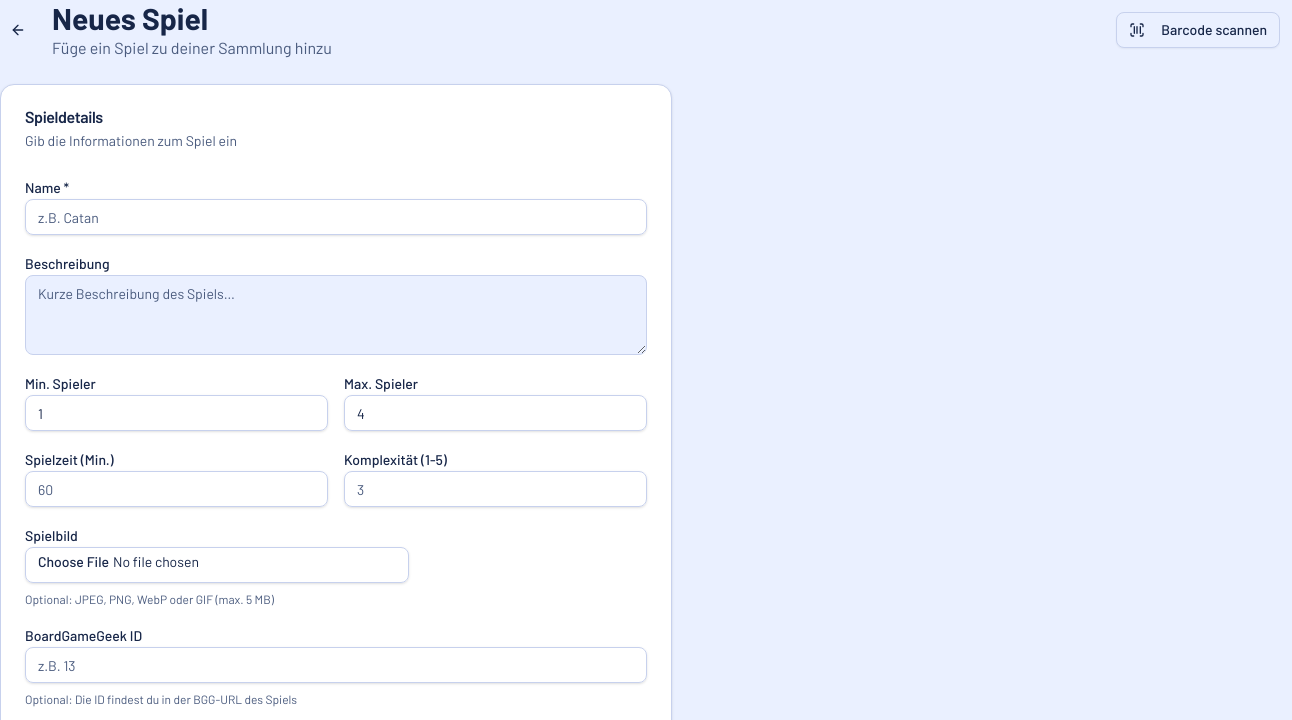
Test: NewGamePage › shows server error on failed submission
Step 1. Type "X" into the field with test id "game-name" → (336, 217), box top-left (25, 199), bottom-right (647, 235)
(page scrolled)
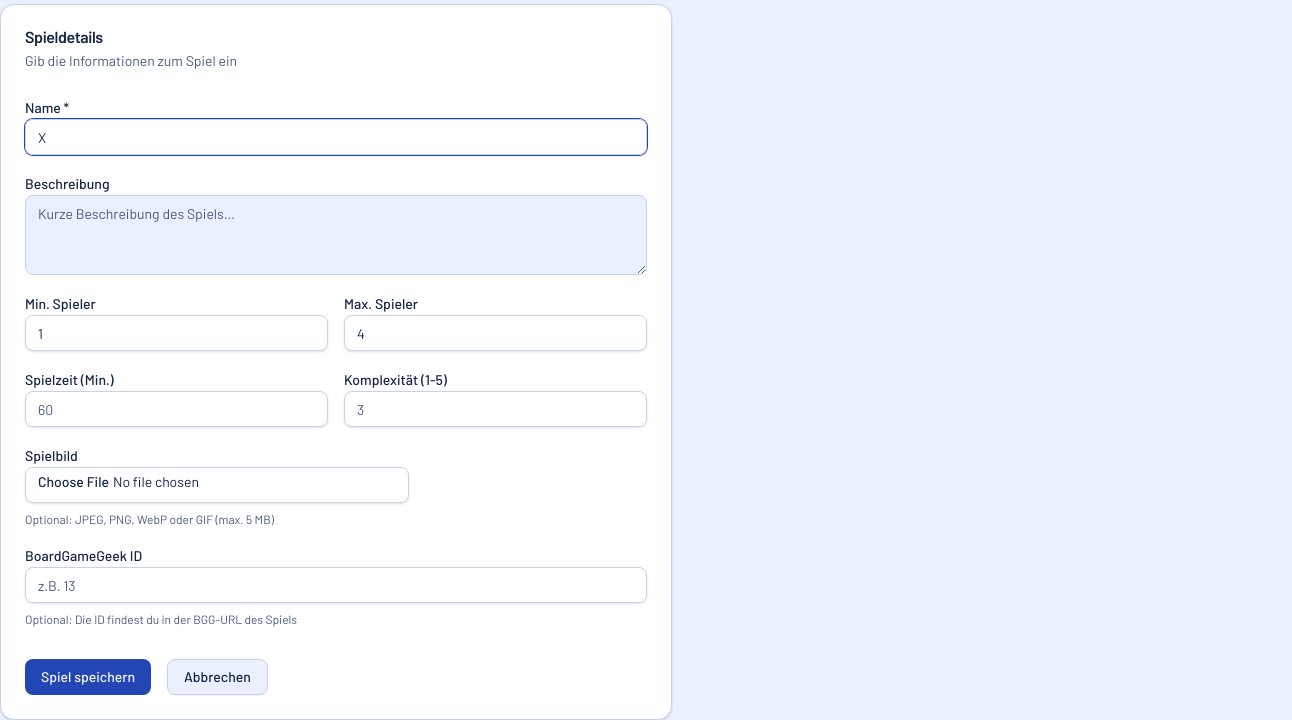
Step 2. Submit the form with test id "new-game-form", box top-left (25, 95), bottom-right (647, 695)
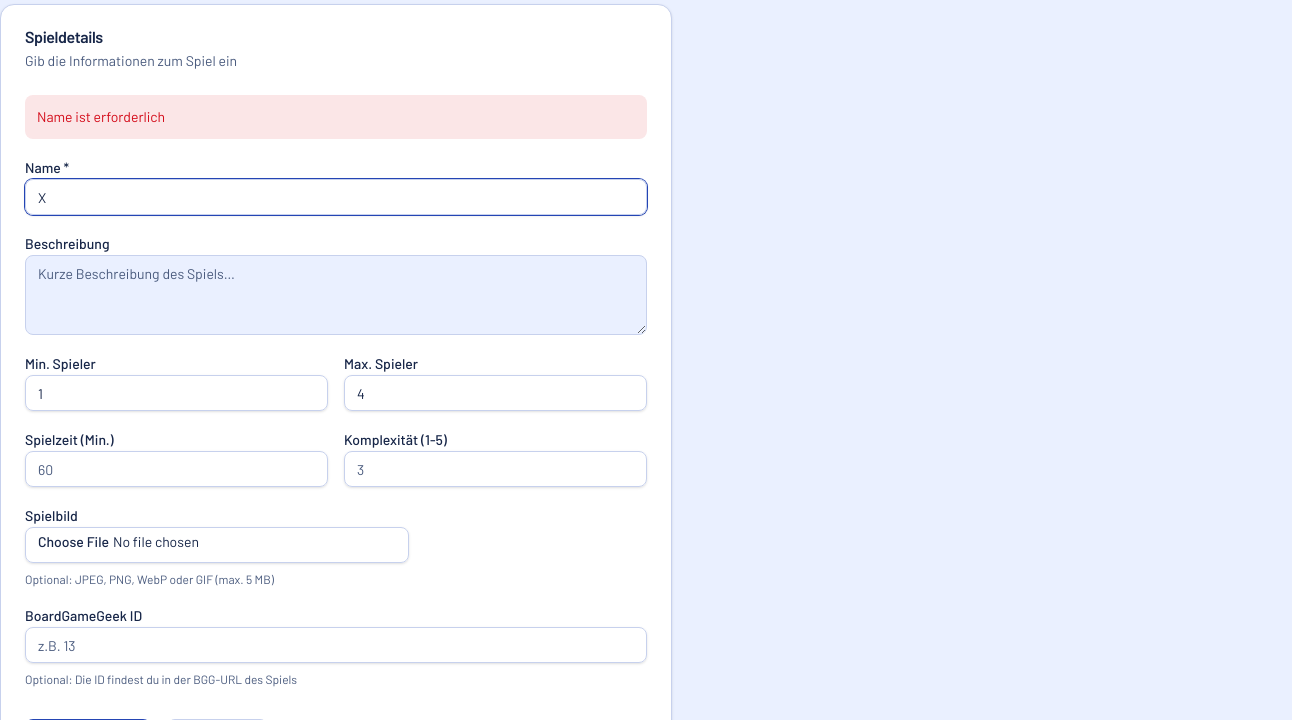
Expected: the text with test id "new-game-error" reads "Name ist erforderlich", top-left (37, 108), bottom-right (165, 125)
